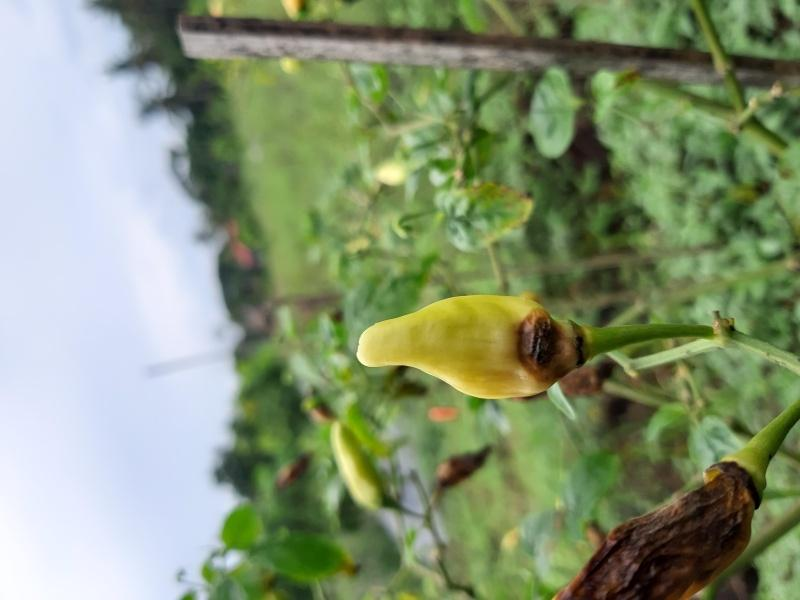antraknosa: (553, 464, 753, 600), (359, 294, 580, 402)
